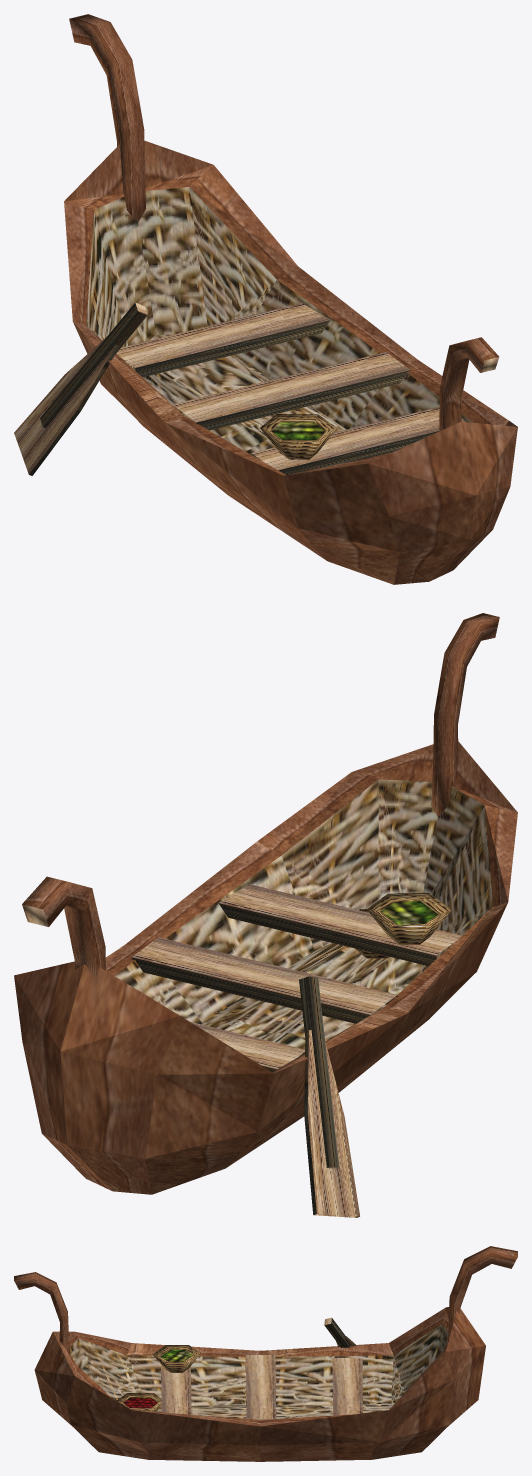
File: lusi_balsa.dae
The picture shows the model from 3 angles, top to bottom: view 1: azimuth 30°, elevation 25°; view 2: azimuth 150°, elevation 25°; view 3: azimuth 270°, elevation 25°; orthographic projection. The views are drawn at different scales.
Visible parts, largest first — view 1: jangada; view 2: jangada; view 3: jangada.
Boxes of the visible parts, x1,y1,x2,y2 form: jangada: (14,14,517,584); jangada: (14,613,517,1217); jangada: (14,1246,517,1461).
Size of the model in its own units: 4.13 by 9.84 by 4.43.
